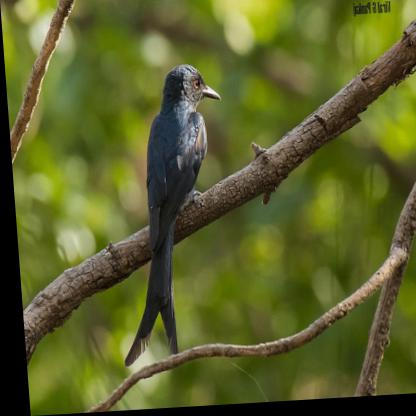Burung: (100, 62, 235, 369)
